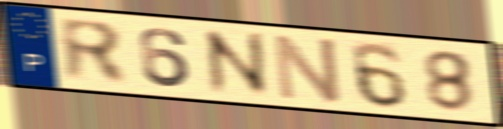6: (348, 40, 410, 111), (136, 26, 194, 90)
8: (421, 48, 479, 114)
N: (271, 31, 345, 106), (199, 27, 275, 97)
R: (55, 15, 133, 88)
